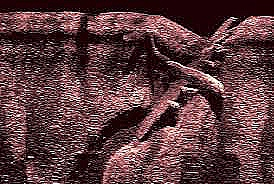aircraft: (130, 14, 239, 141)
